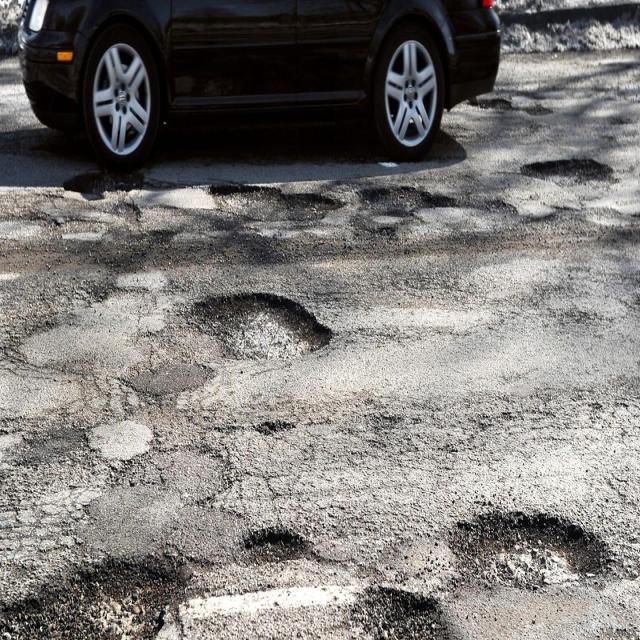pothole: (0, 557, 187, 640), (448, 498, 605, 594), (193, 288, 332, 366), (208, 177, 340, 225), (349, 573, 439, 640), (357, 182, 456, 220), (239, 526, 310, 576), (520, 152, 612, 186)
